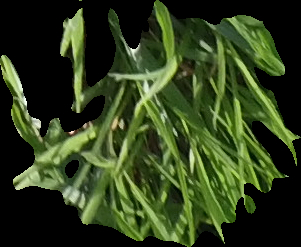grass: (1, 1, 300, 246)
